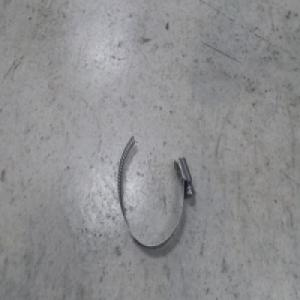AdjustableClamp: (115, 134, 193, 249)
